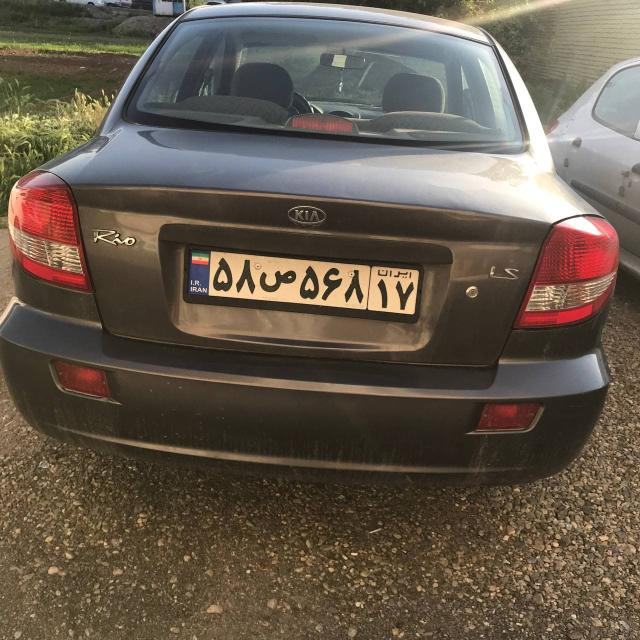Plates: (186, 249, 419, 315)
